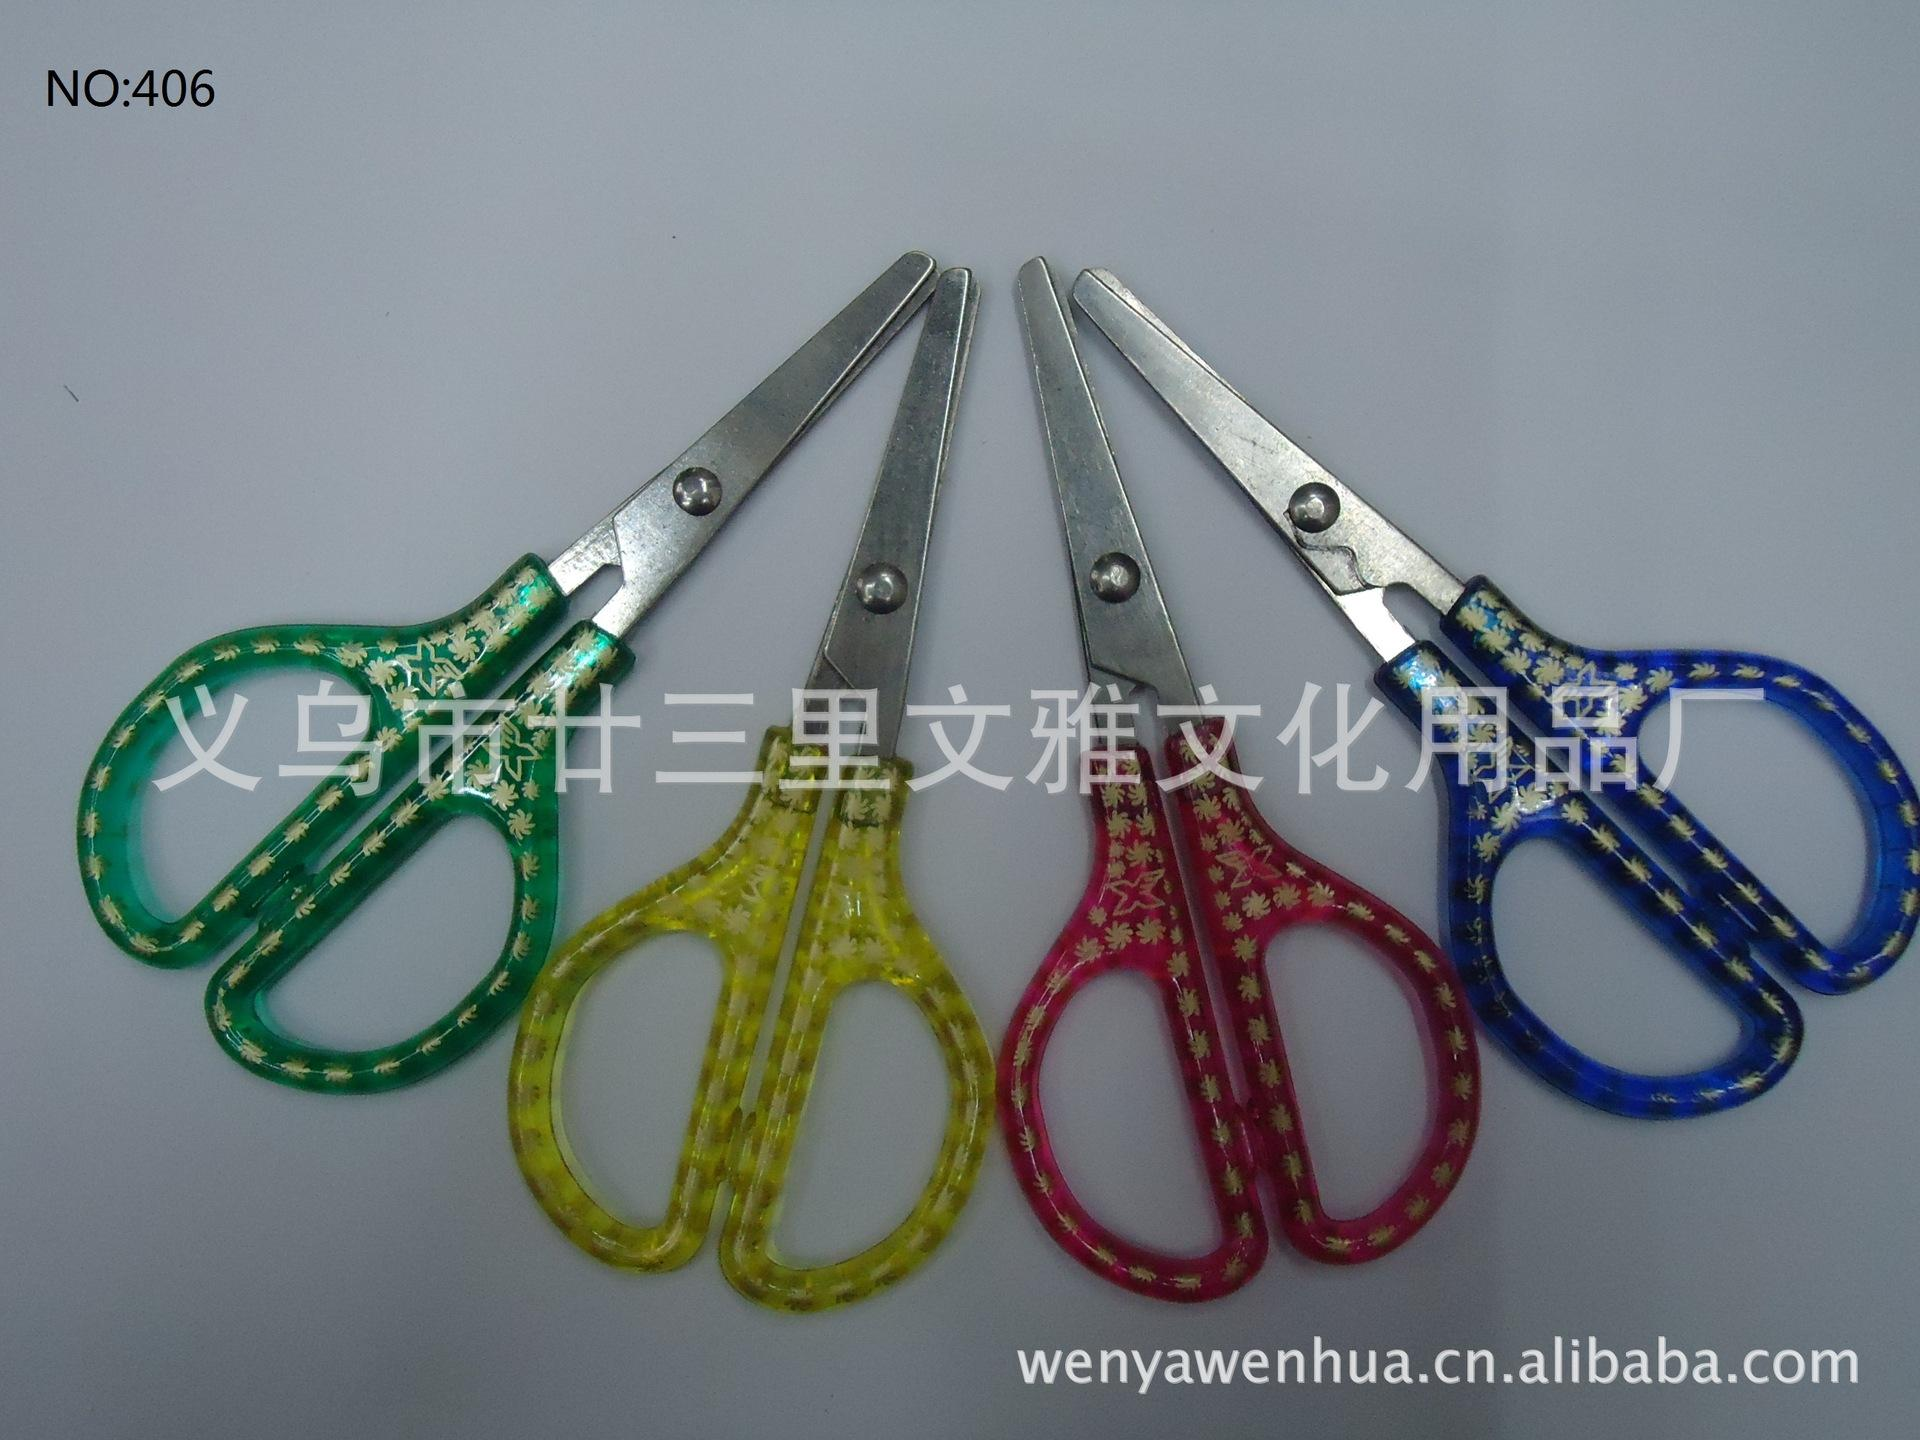scissor: (190, 166, 1863, 1072)
